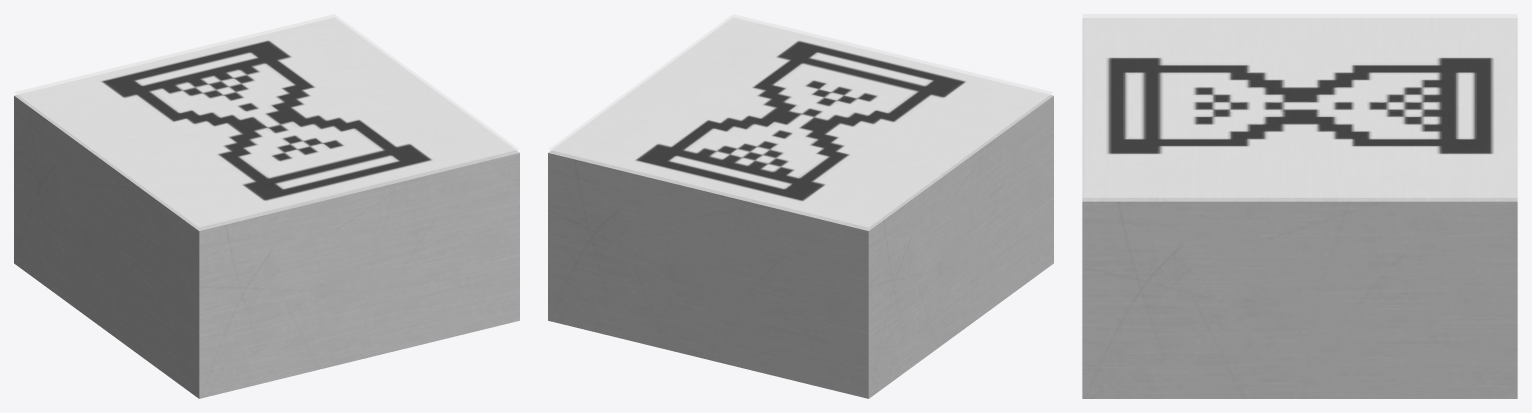
File: delaywire.obj
3 views of the same model, side by side, from view 1: azimuth 30°, elevation 25°; view 2: azimuth 150°, elevation 25°; view 3: azimuth 270°, elevation 25° (orthographic). The views are drawn at different scales.
Visible parts, largest first — view 1: Delaywire1, Delaywire2; view 2: Delaywire1, Delaywire2; view 3: Delaywire1, Delaywire2.
Part boxes in pixels (x1,y1,x2,y2): Delaywire1: (14, 17, 519, 398); Delaywire2: (14, 14, 519, 227); Delaywire1: (548, 17, 1053, 398); Delaywire2: (548, 14, 1053, 227); Delaywire1: (1082, 18, 1517, 398); Delaywire2: (1082, 14, 1517, 197).
Bounding box in the file's own units: 2 × 1.02 × 2.
2 materials, 2 textured.
